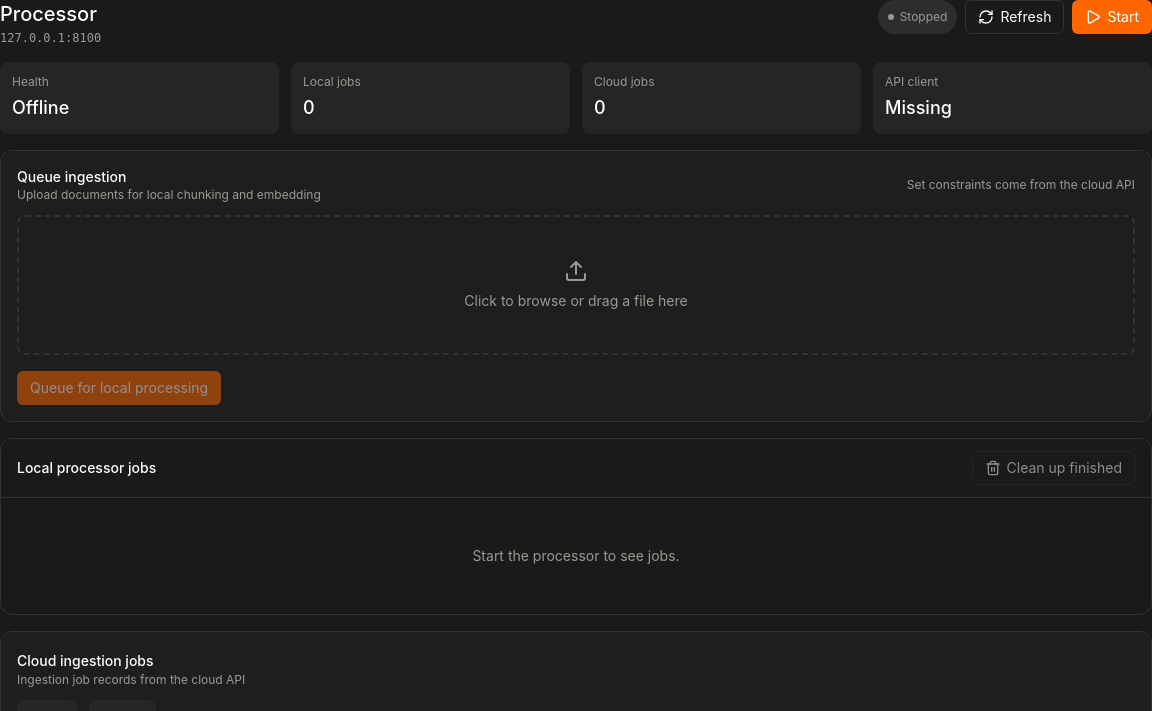
ProcessorScreen — cloud job source file name subtitle › reports a cloud job that immediately fails to start
Check: the text "Stopped" is shown, box top-left (878, 0), bottom-right (958, 34)
Click the text "Click to browse or drag a file here".
click(576, 301)  # box top-left (464, 291), bottom-right (688, 311)
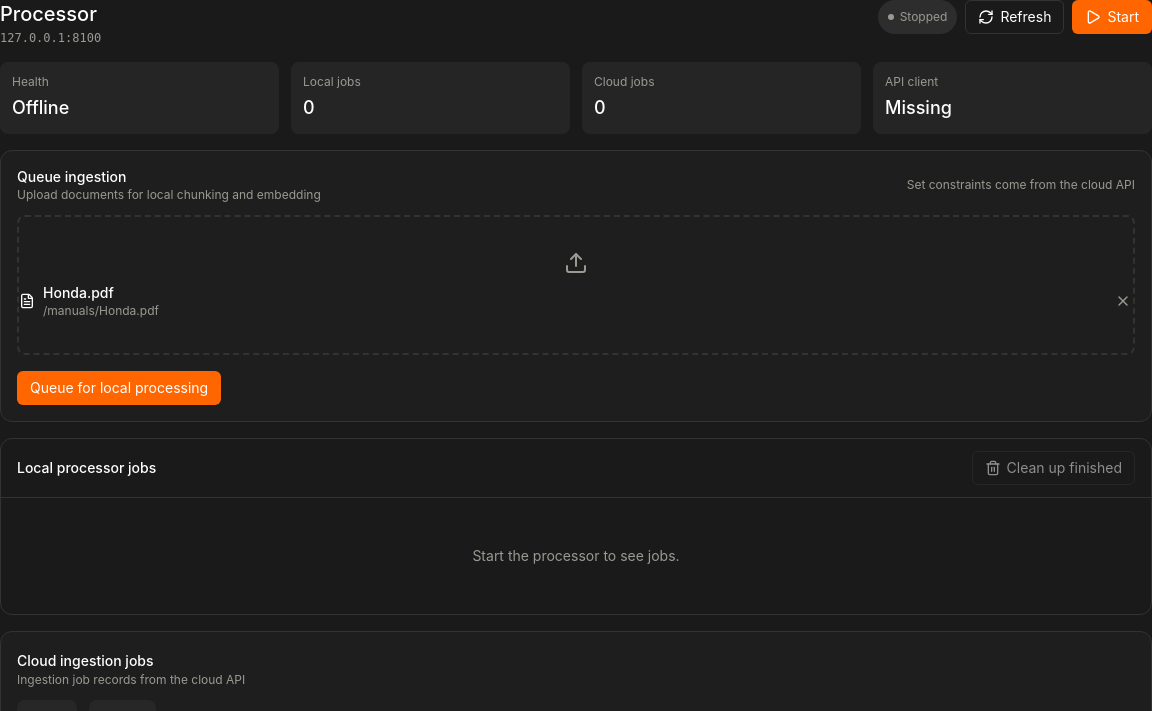
Check: the text "Honda.pdf" is shown, box top-left (43, 284), bottom-right (114, 301)
Click the button "Queue for local processing".
click(119, 388)  # box top-left (17, 371), bottom-right (221, 405)
(page scrolled)
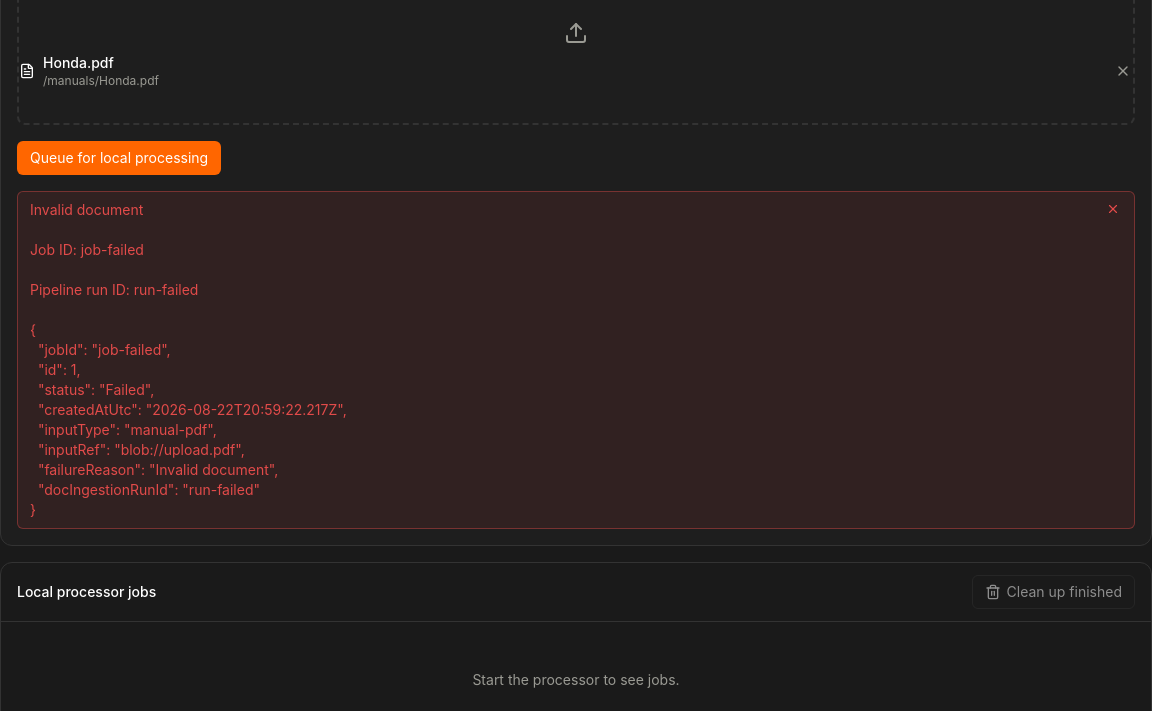
Check: the text "Invalid document" is shown, box top-left (30, 201), bottom-right (347, 518)
